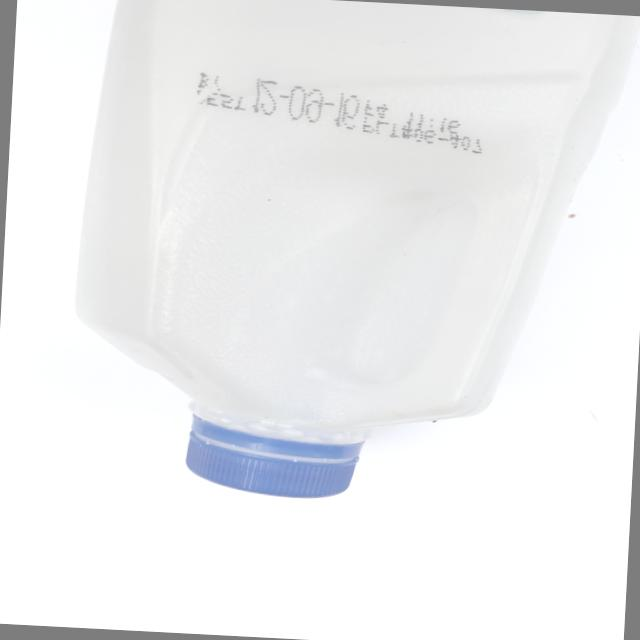Plastic: (77, 0, 622, 546)
